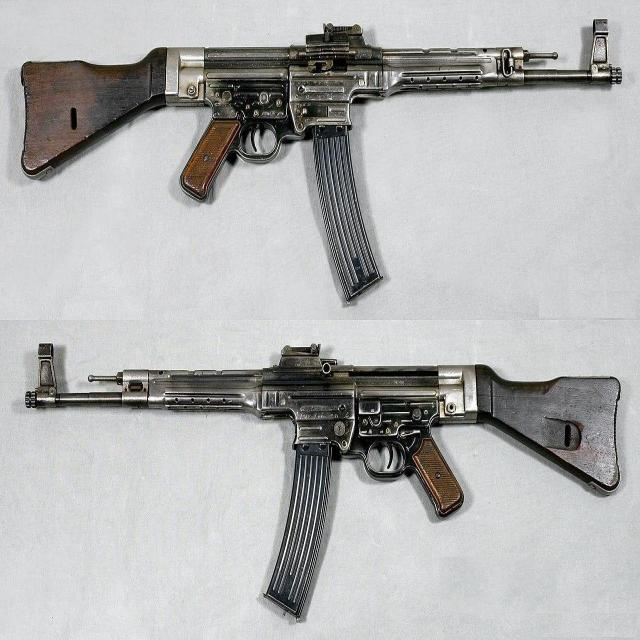weapon: (22, 326, 626, 625), (13, 20, 630, 301)
